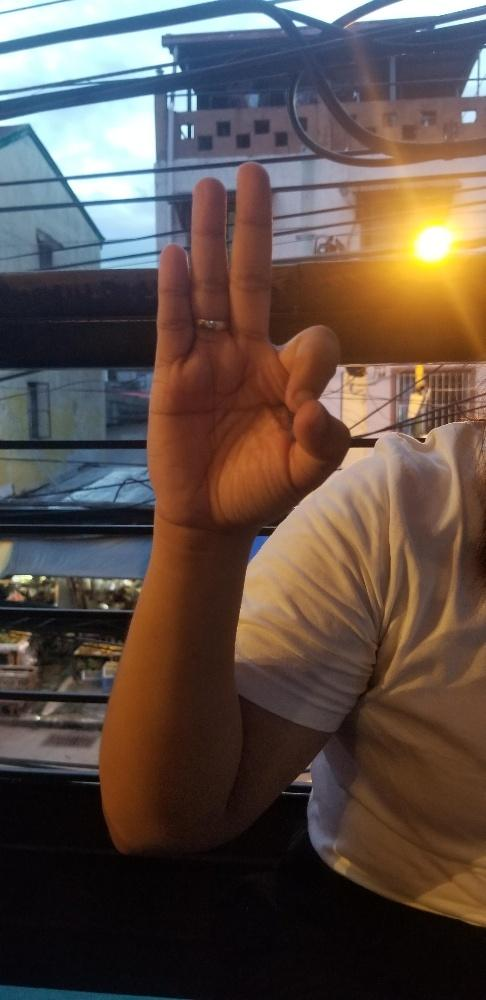f: (148, 156, 352, 531)
